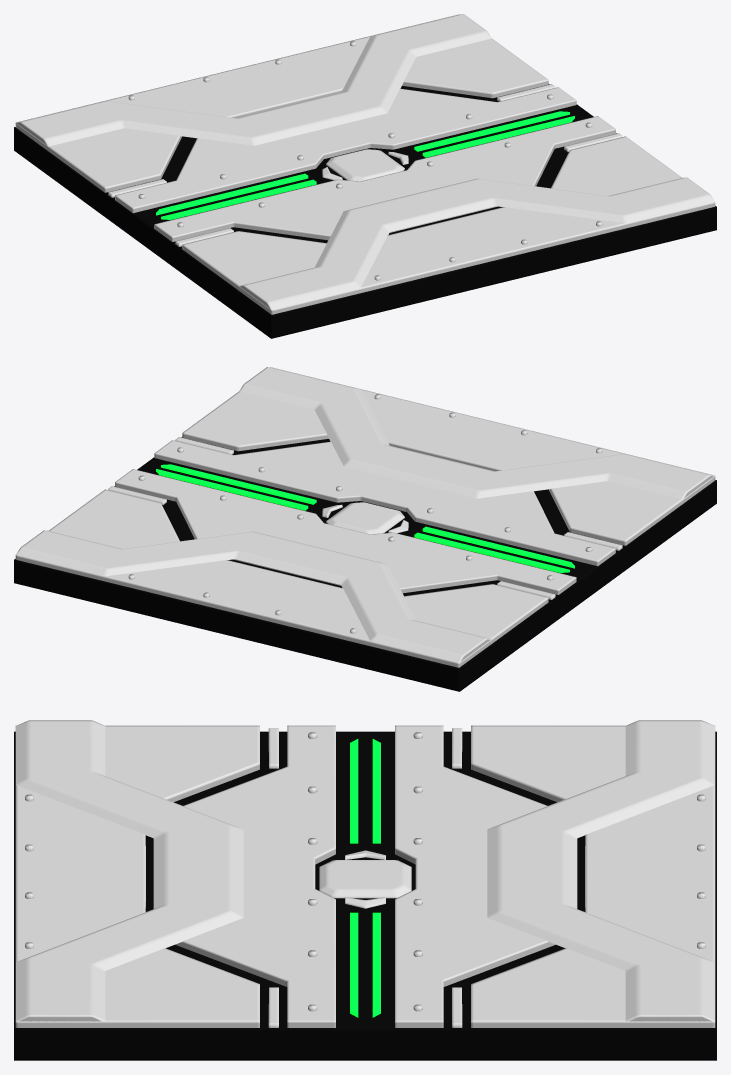
Rendered from panel.glb.
The picture shows the model from 3 angles, top to bottom: view 1: azimuth 30°, elevation 25°; view 2: azimuth 150°, elevation 25°; view 3: azimuth 270°, elevation 25°; orthographic projection. The views are drawn at different scales.
Visible parts, largest first — view 1: SciFi_panel_003; view 2: SciFi_panel_003; view 3: SciFi_panel_003.
Boxes of the visible parts, box(x1,y1,x2,y2) form: SciFi_panel_003: box(14, 14, 716, 338); SciFi_panel_003: box(14, 367, 716, 691); SciFi_panel_003: box(14, 720, 716, 1060).
Bounding box in the file's own units: 200 × 13.71 × 200.
